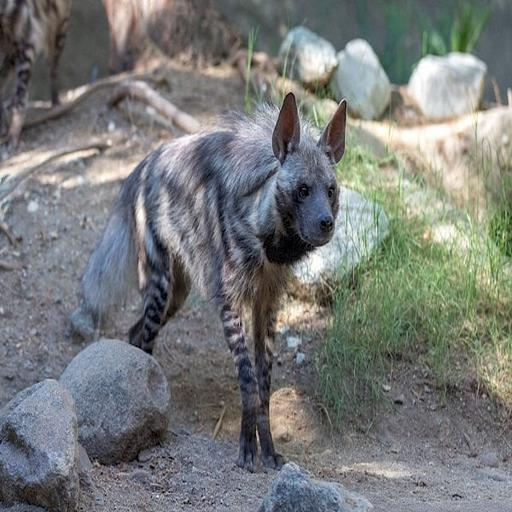Hyena: (76, 89, 355, 476)
